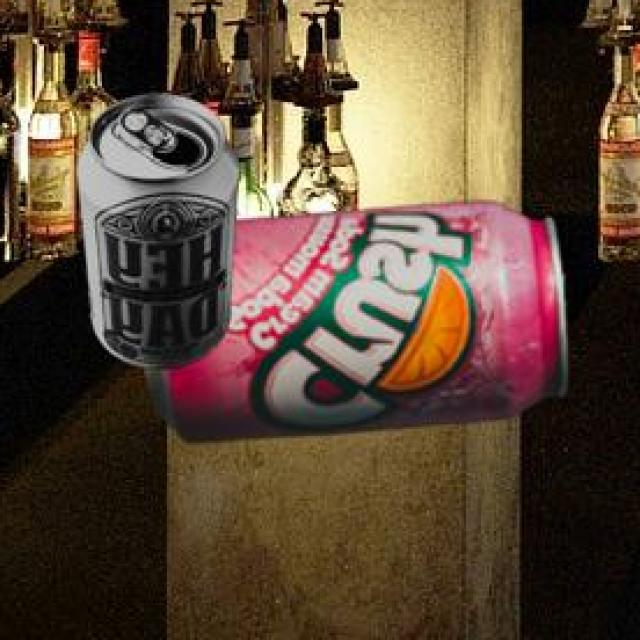logam: (143, 205, 562, 446), (73, 99, 233, 372)
